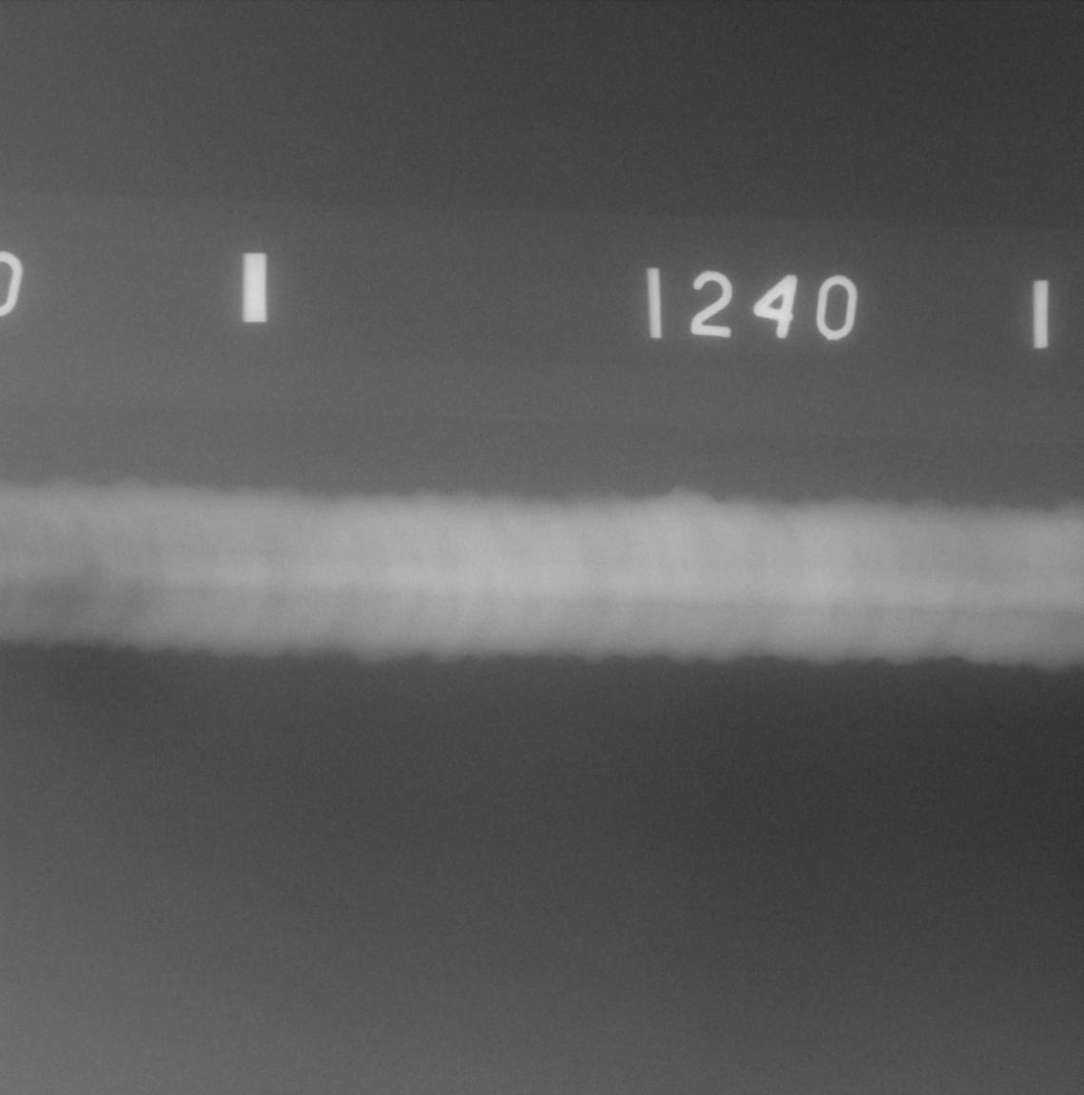Pore/Porosity: (899, 567, 904, 570)
